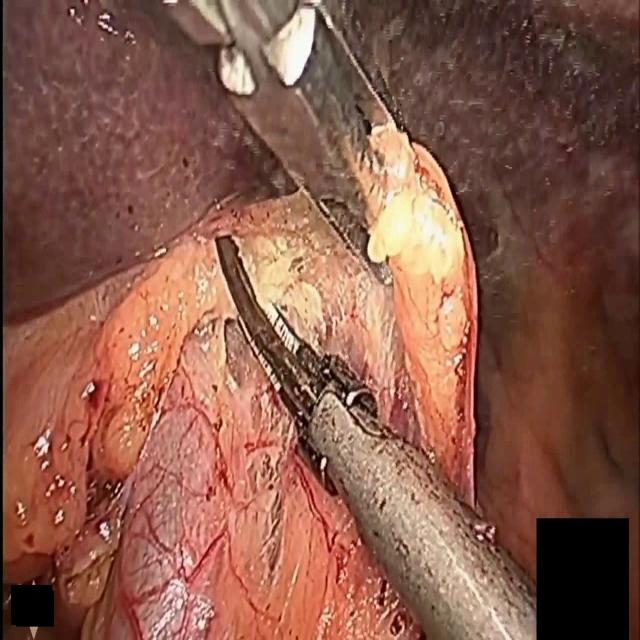surgical-area: (2, 1, 640, 639)
surgical-tool: (215, 230, 537, 639)
